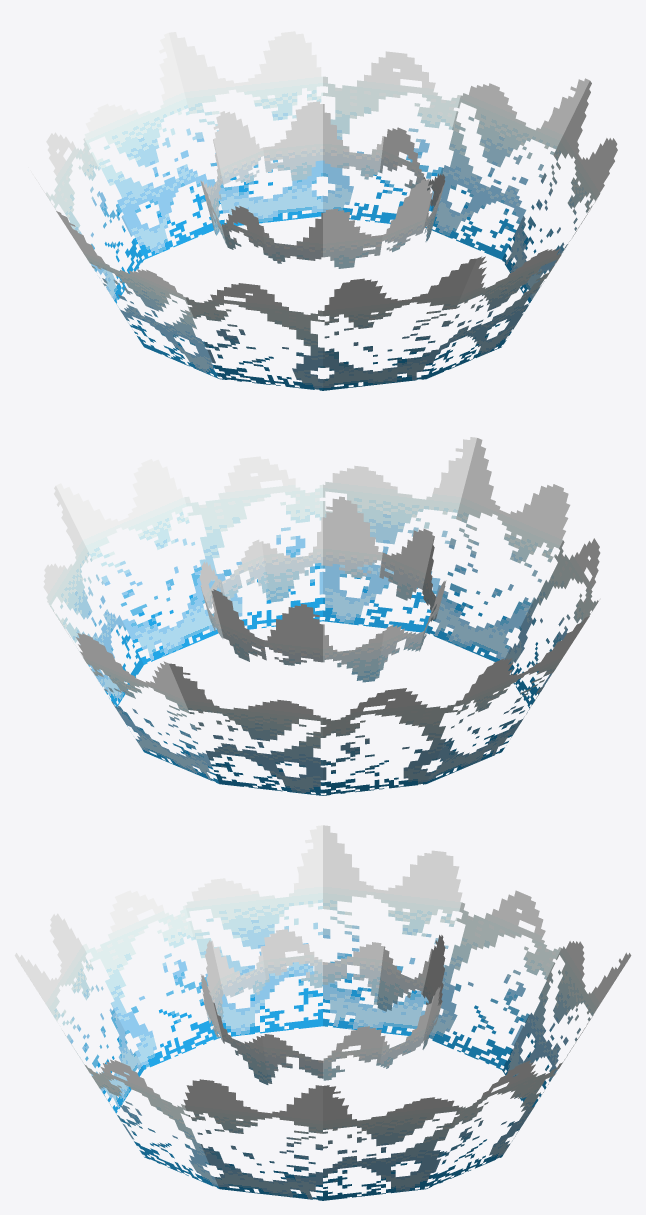
Rendered from beach_course-water_efct.glb.
3 renders of one model, top to bottom at view 1: azimuth 30°, elevation 25°; view 2: azimuth 150°, elevation 25°; view 3: azimuth 270°, elevation 25°, orthographic.
Visible parts, largest first — view 1: water_efct; view 2: water_efct; view 3: water_efct.
Part boxes in pixels (x1=…): water_efct: x1=35, y1=31, x2=617, y2=390; water_efct: x1=43, y1=437, x2=600, y2=795; water_efct: x1=14, y1=825, x2=631, y2=1200.
Bounding box in the file's own units: 1.76 × 0.5 × 1.76.
2 materials, 2 textured.
